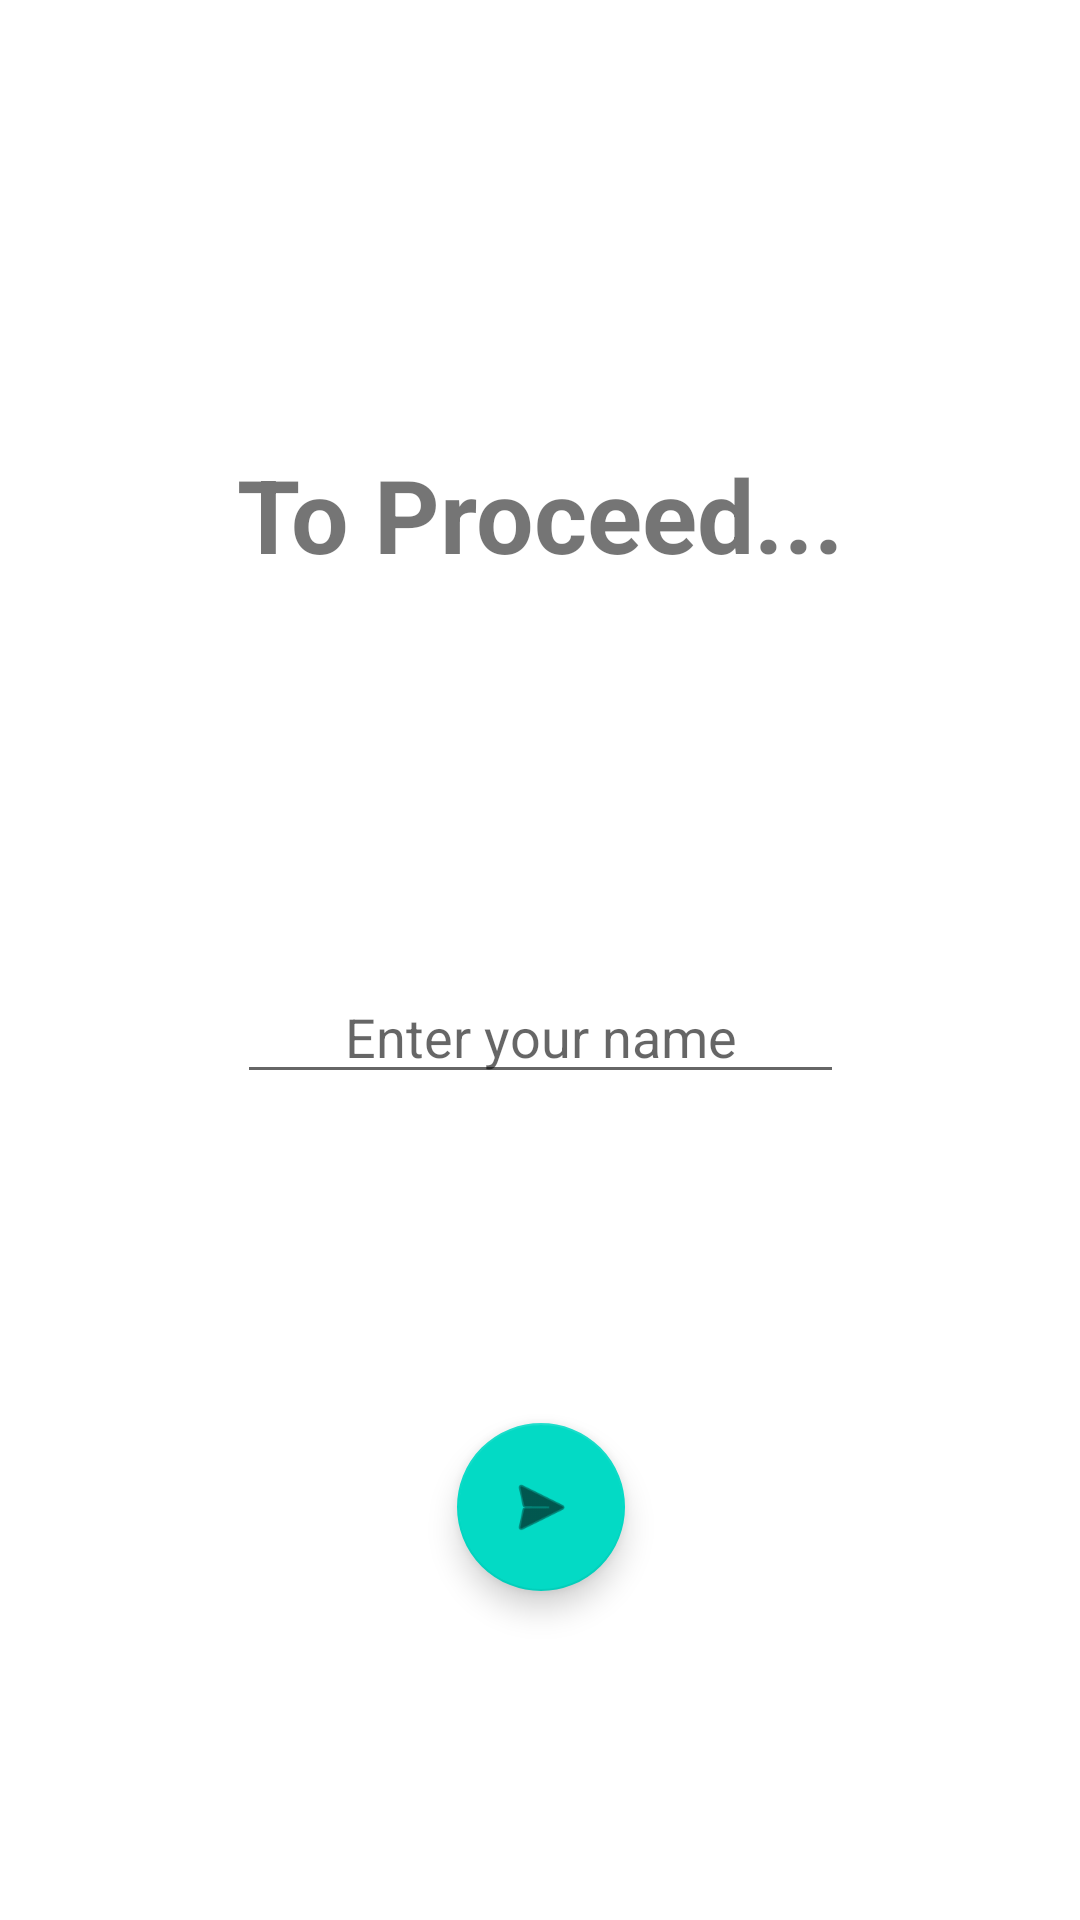

Named icons in this screenshot (1080*1920) and their centers, (x=x, y=y):
send: (x=541, y=1507)
